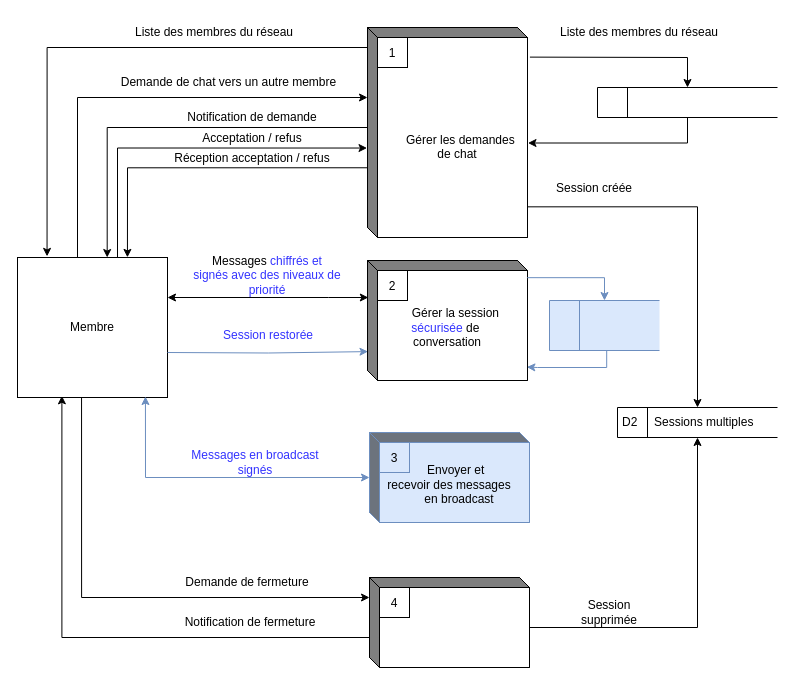
Some shapes in this 796 by 685 pixel diagram are drawn without their labels. Each missing label, with the centre of its shape:
D1 Membres authentifié.e.s et disponibles sur le réseau: the point at 687,102
D3 Session personnelle persistente: the point at 604,325
Gérer la fin de la session: the point at 449,622
